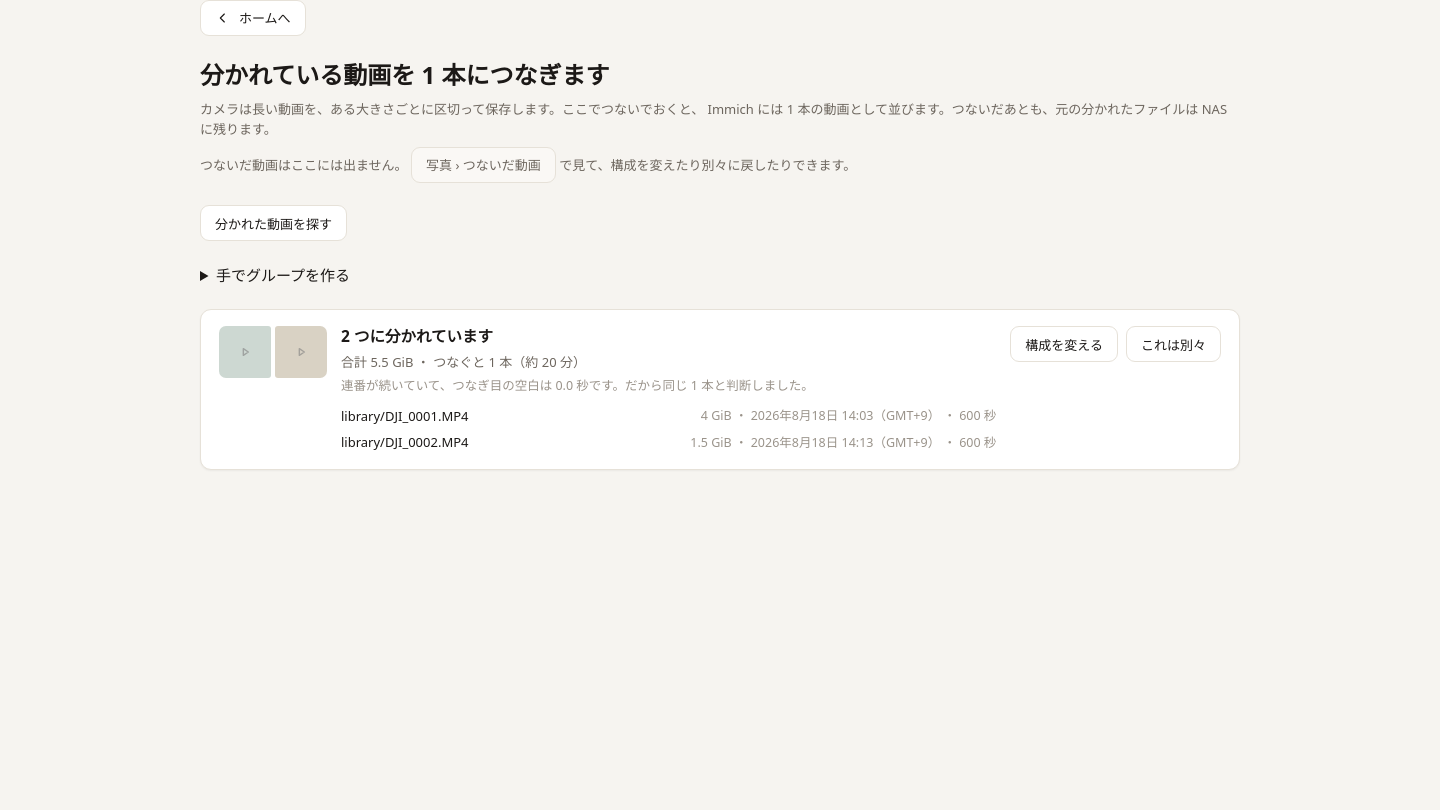
Test: つなぐ › 結合済みの組を「これは別々」にすると、公開済み 1 件と出す
The width and height of the screenshot is (1440, 810).
Click the button "これは別々" at (1174, 344), box [1126,326,1221,362]
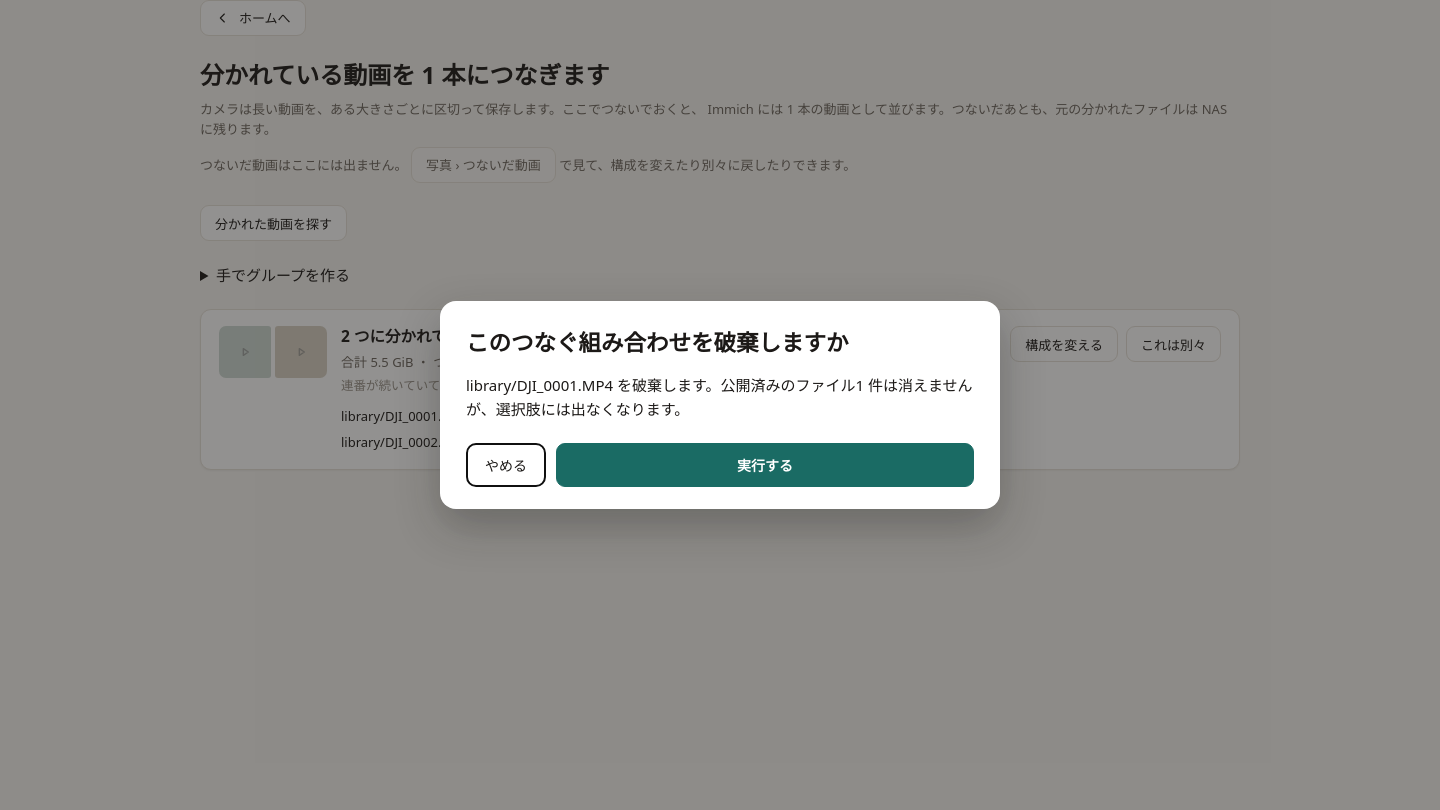
Result: the dialog shows "ファイル1 件" at [440,301,1000,509]
